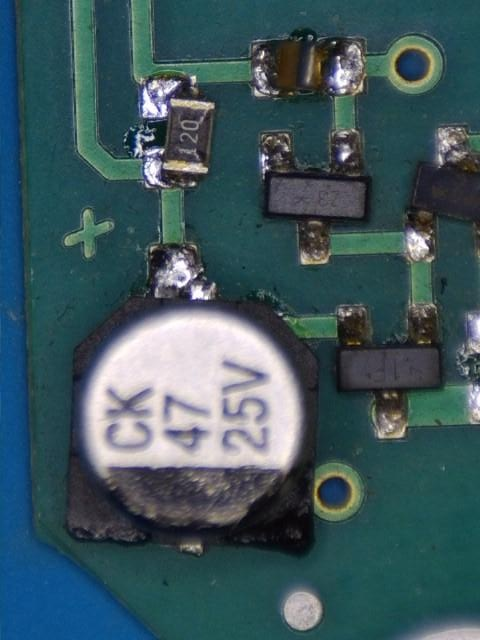pcb_defect: (66, 244, 320, 555), (404, 125, 480, 262), (141, 75, 216, 188), (253, 38, 364, 96)
